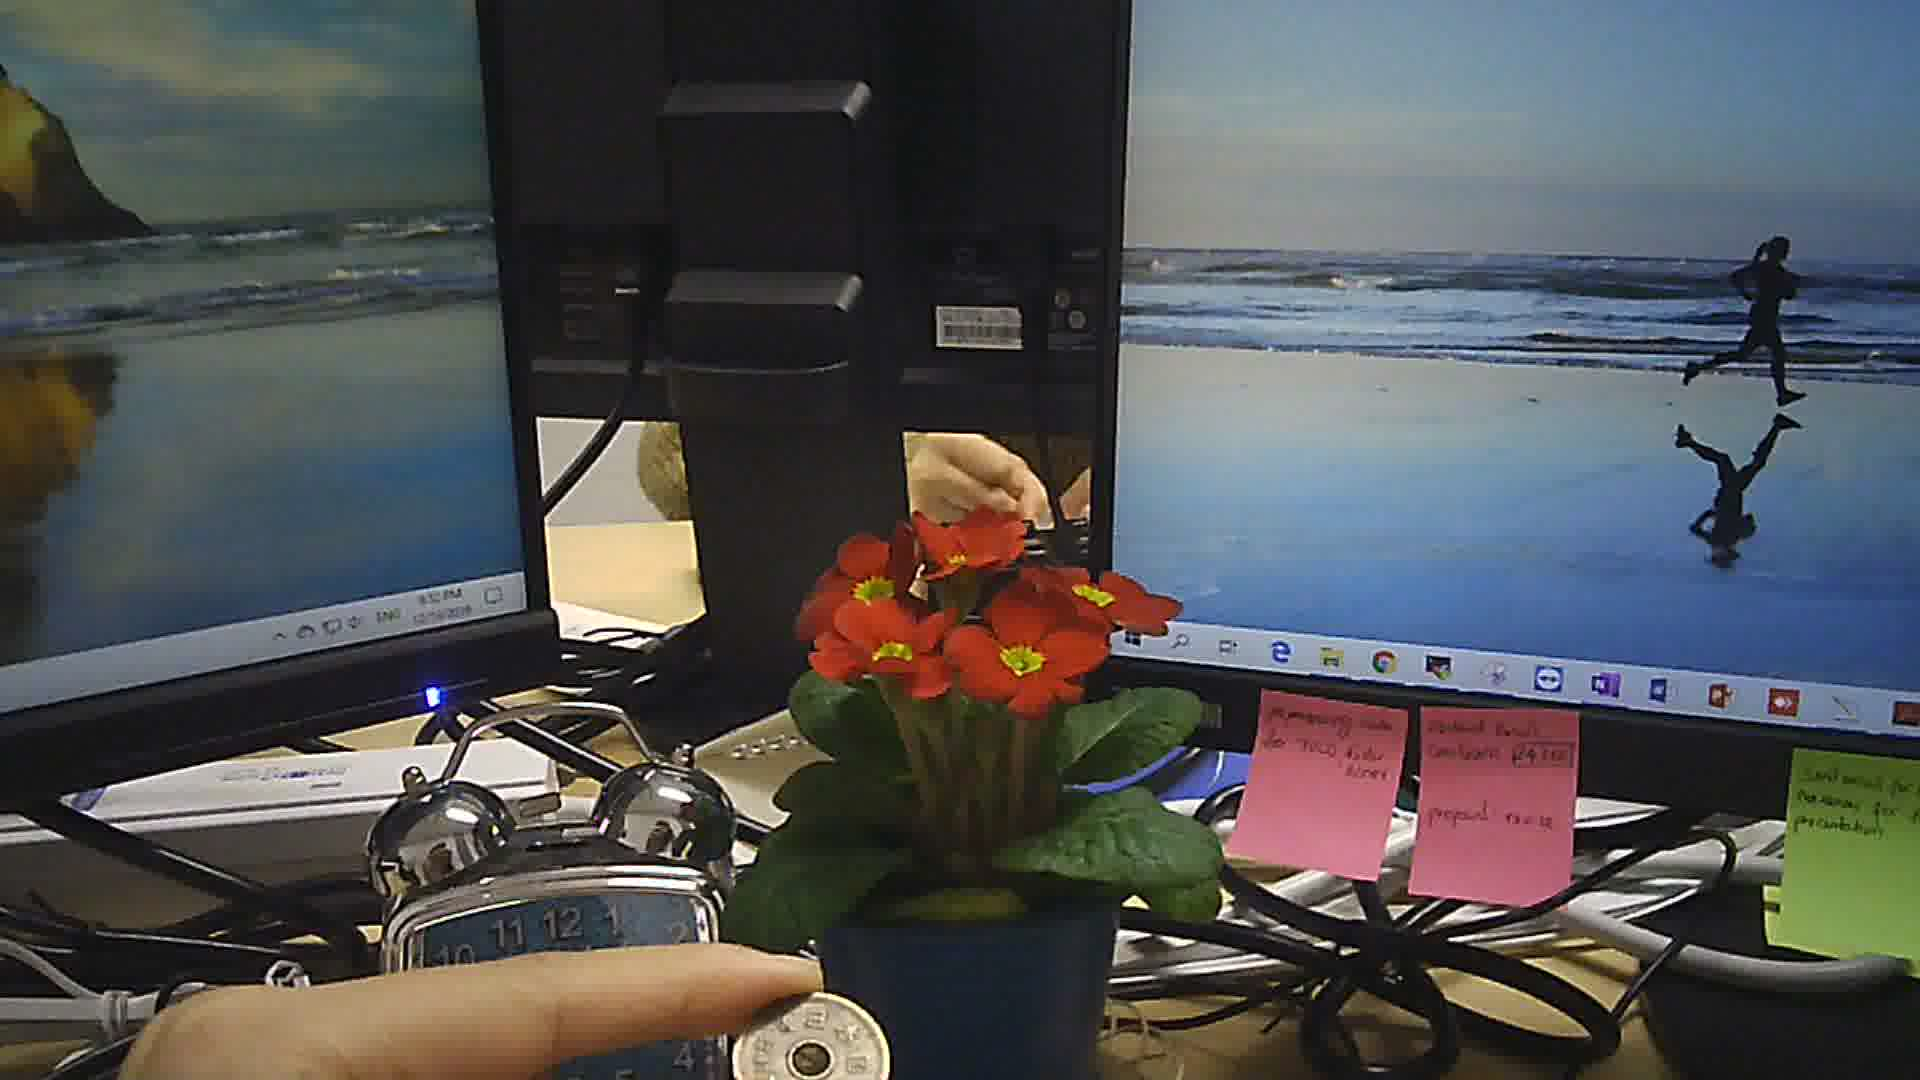5 Yen: (729, 986, 899, 1079)
